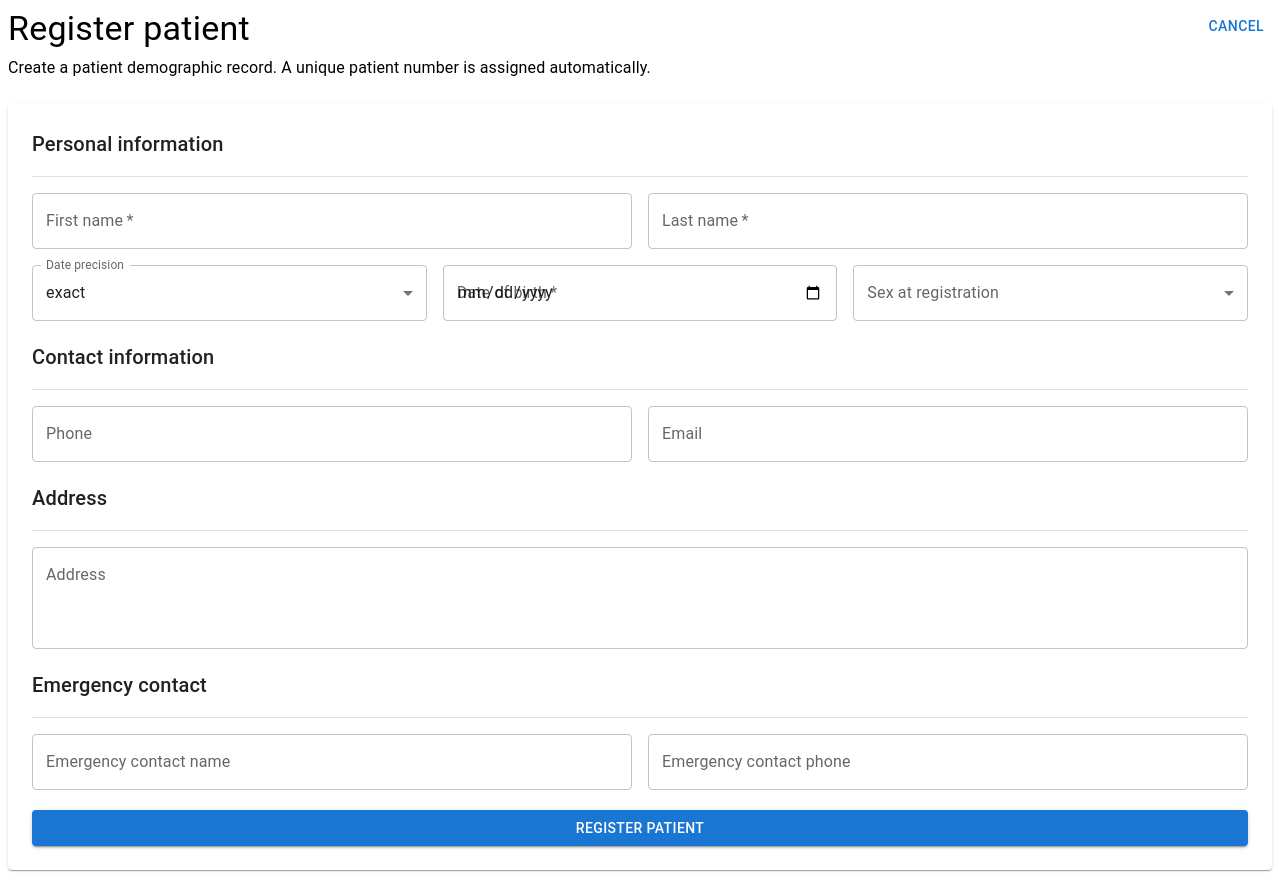
it: patient registration and query invalidation › rejects a future date before mutation
Type "Future" into the field labelled "First name *" at (332, 221), box left=32, top=193, right=632, bottom=249
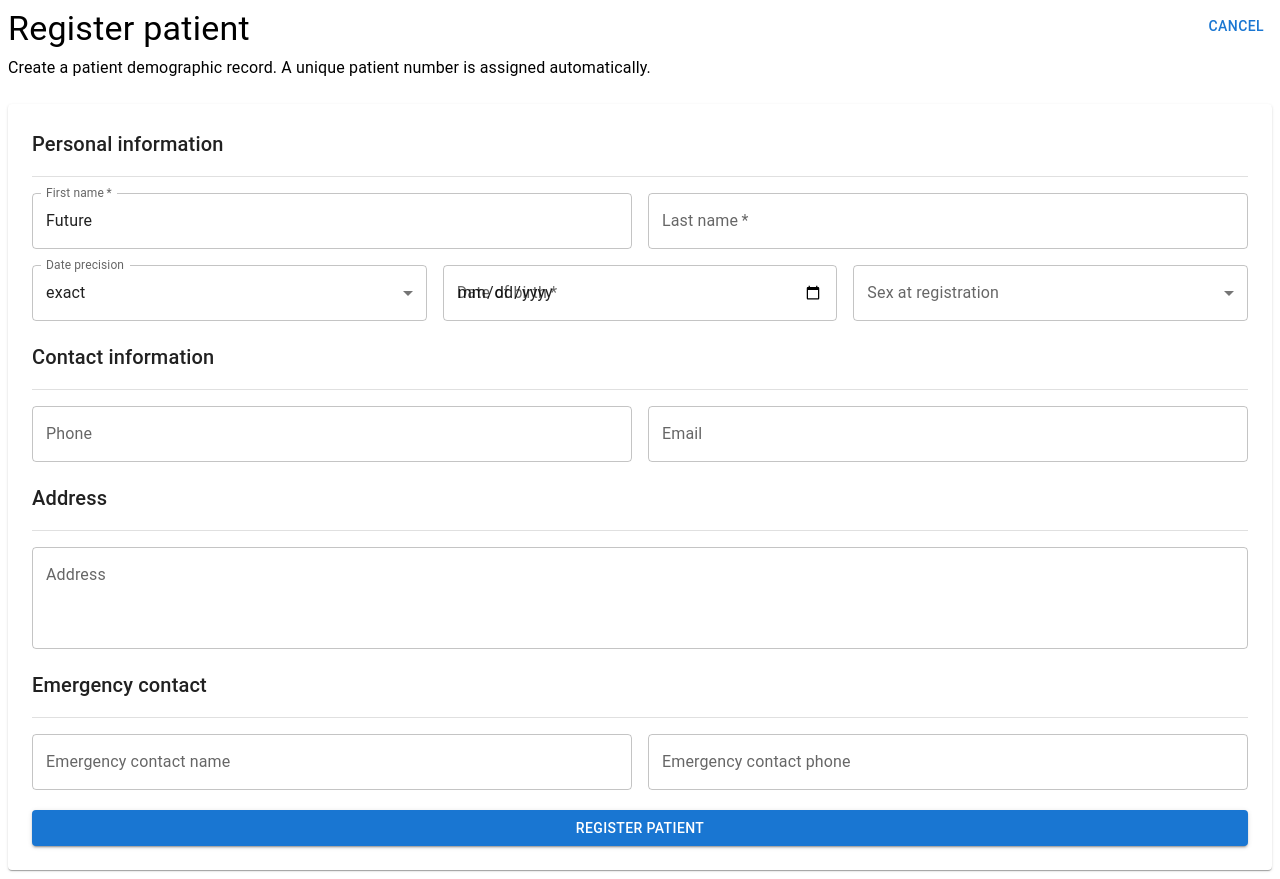
Type "Patient" into the field labelled "Last name *" at (948, 221), box left=648, top=193, right=1248, bottom=249
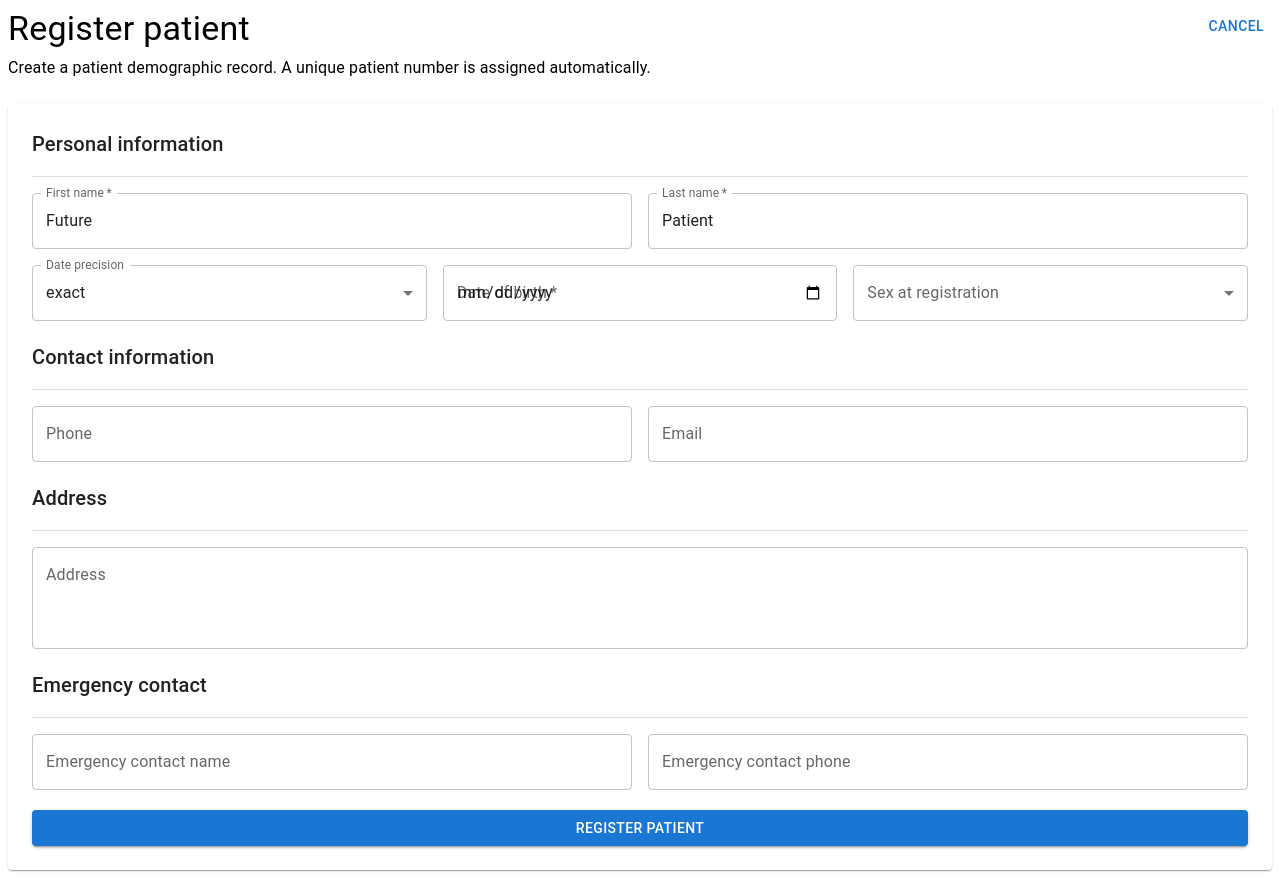
Type "2999-01-01" into the date field labelled "Date of birth *" at (640, 293), box left=443, top=265, right=837, bottom=321
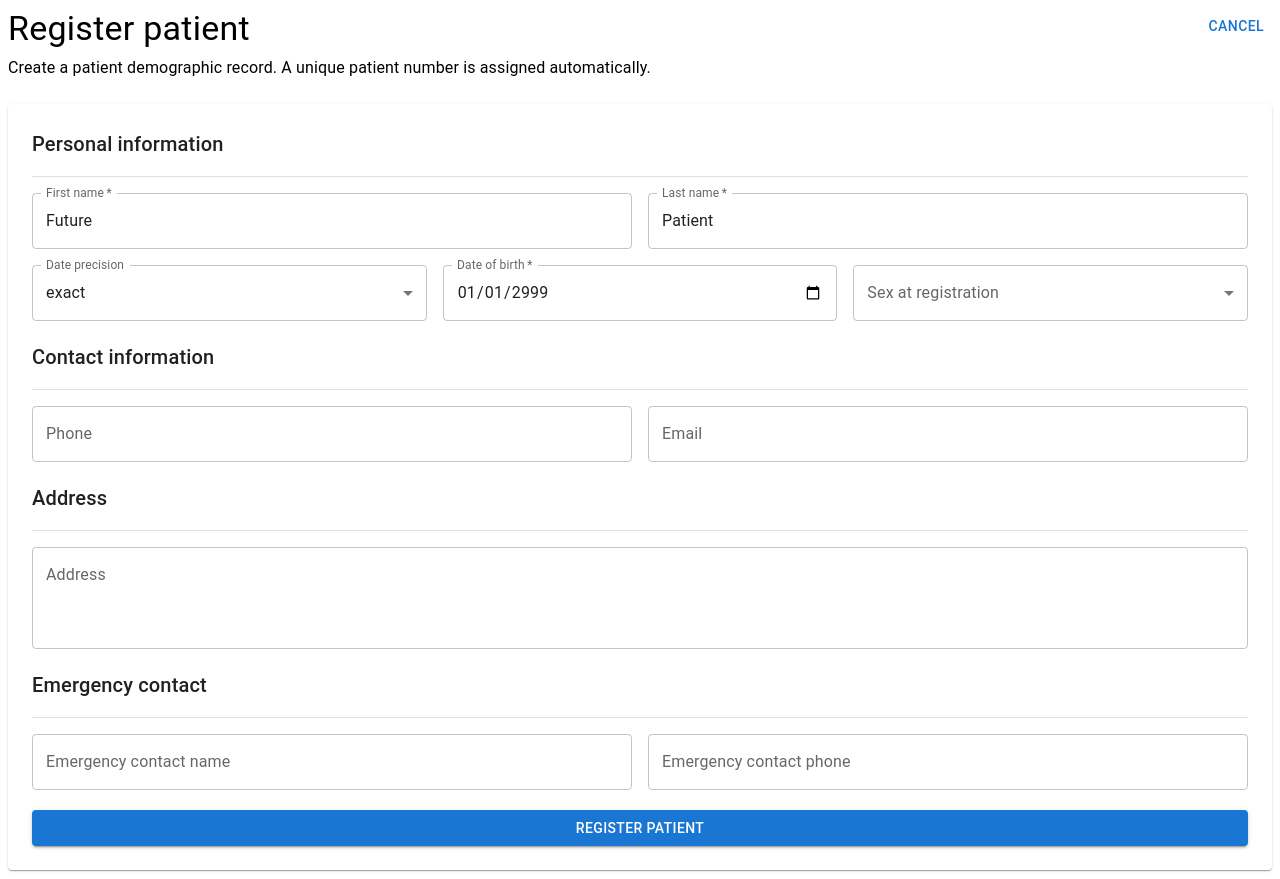
Submit the form named "Register patient"
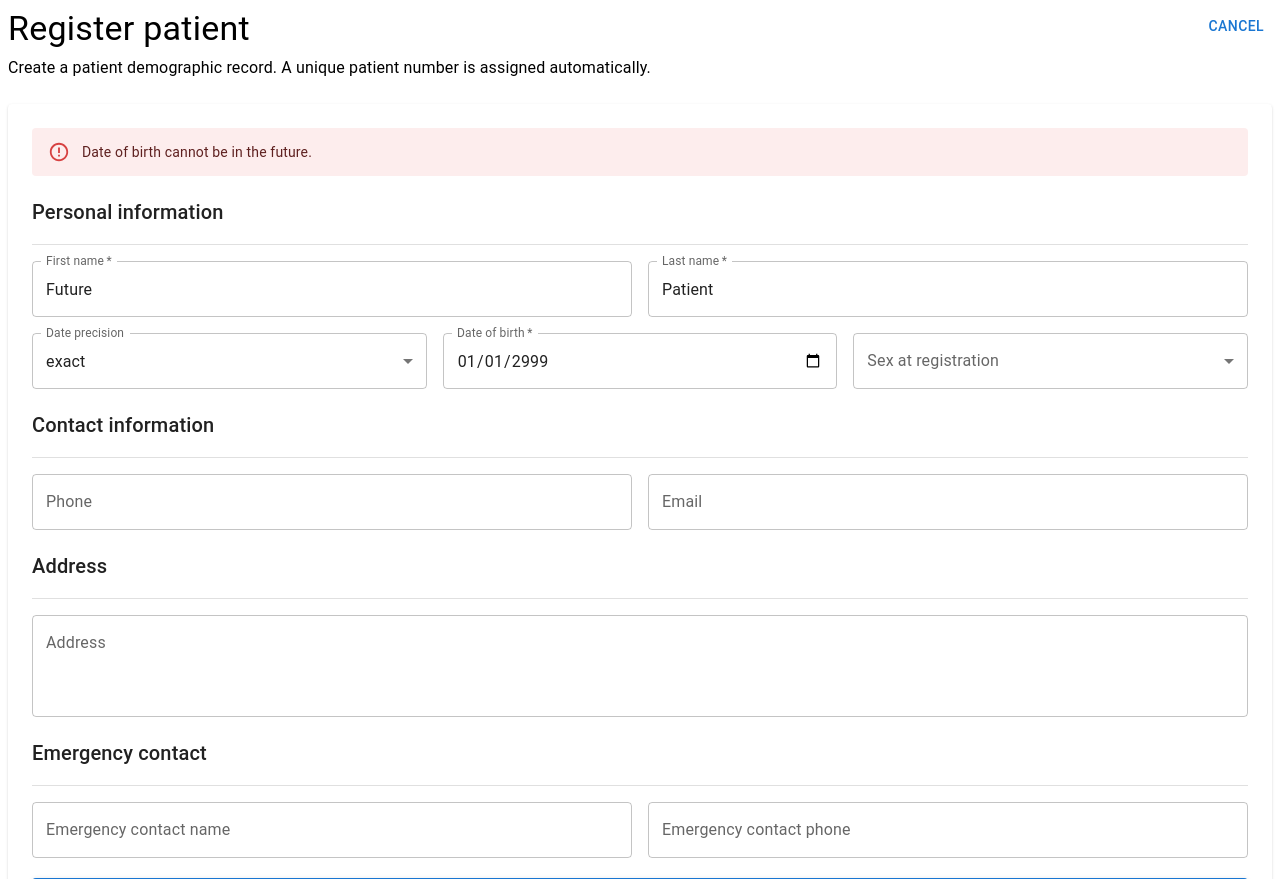
Now the text "Date of birth cannot be in the future." is shown, box left=82, top=144, right=312, bottom=160
